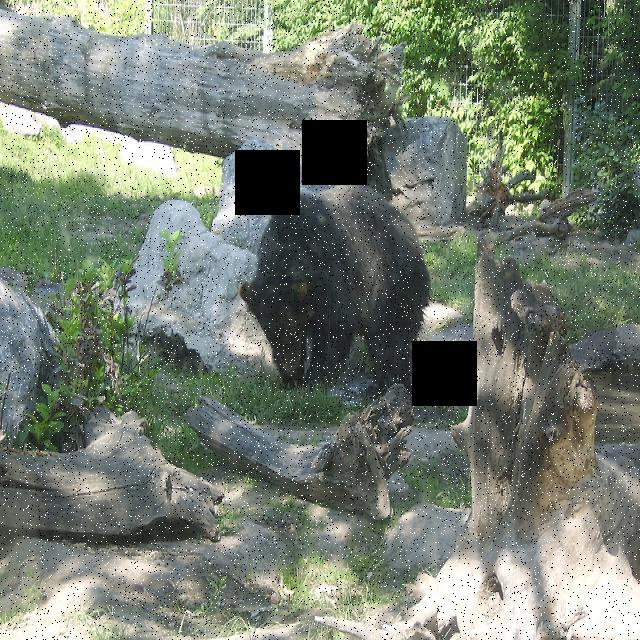Bear: (242, 183, 435, 407)
